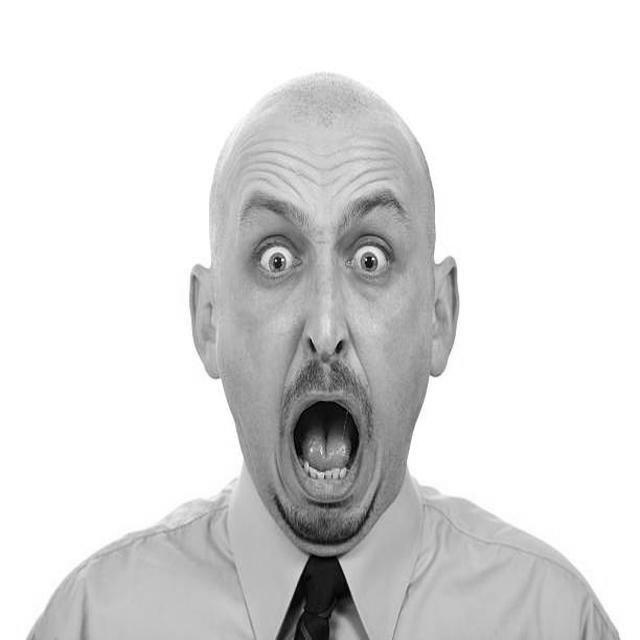Fear: (233, 127, 422, 549)
